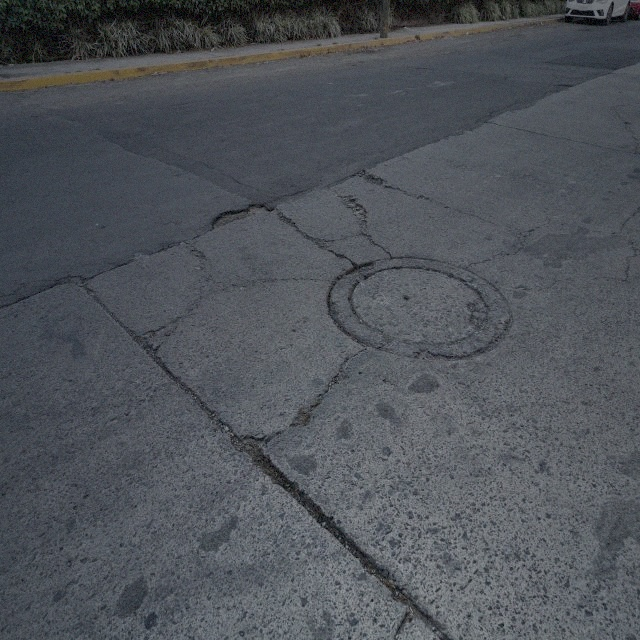pothole: (235, 435, 293, 495), (210, 200, 275, 230), (343, 194, 368, 234), (466, 298, 484, 334), (414, 346, 449, 364), (347, 261, 372, 284), (359, 168, 385, 189), (294, 403, 315, 424), (404, 64, 431, 71)
